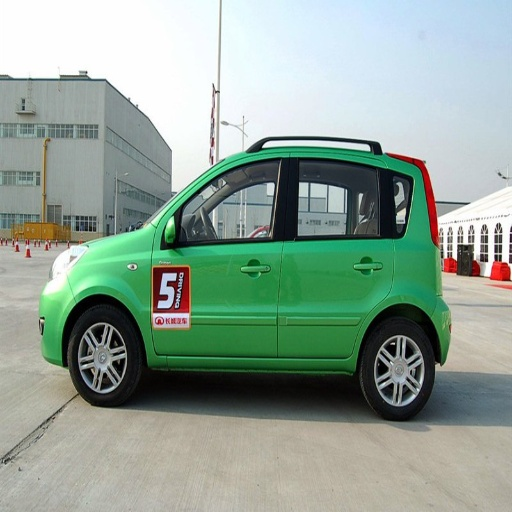back_left_door: (279, 152, 392, 359)
front_left_door: (152, 154, 289, 355)
